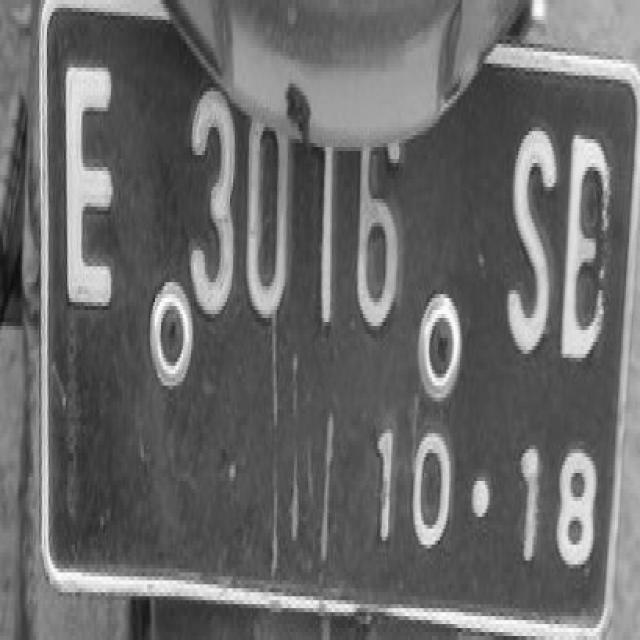0: (230, 93, 298, 313)
1: (316, 140, 344, 337)
3: (186, 73, 230, 315)
6: (350, 147, 412, 333)
B: (553, 138, 619, 356)
E: (56, 55, 120, 305)
S: (500, 118, 552, 357)
